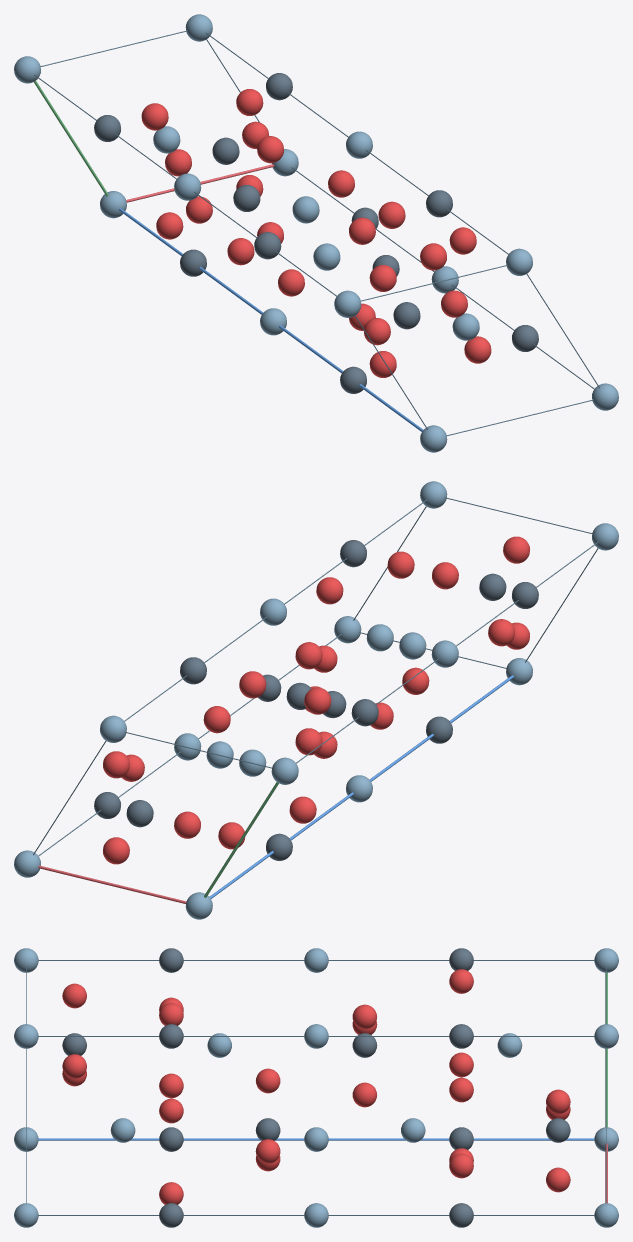
The model's file is chat-smithsonite.glb.
The picture shows the model from 3 angles, top to bottom: view 1: azimuth 30°, elevation 25°; view 2: azimuth 150°, elevation 25°; view 3: azimuth 270°, elevation 25°; orthographic projection. The views are drawn at different scales.
Visible parts, largest first — view 1: O · O · 1 (×15), Zn · Zn · 1 (×12), C · C · 1 (×8), Ô mạng và các trục a, b, c; view 2: O · O · 1 (×14), Zn · Zn · 1 (×12), Ô mạng và các trục a, b, c, C · C · 1 (×7); view 3: O · O · 1 (×16), Zn · Zn · 1 (×16), C · C · 1 (×12), Ô mạng và các trục a, b, c.
Part boxes in pixels (x1,y1,x2,y2): O · O · 1 (×15): (141, 89, 491, 363); Zn · Zn · 1 (×12): (14, 14, 618, 452); C · C · 1 (×8): (94, 73, 538, 351); Ô mạng và các trục a, b, c: (34, 30, 599, 435); O · O · 1 (×14): (103, 536, 529, 864); Zn · Zn · 1 (×12): (14, 481, 618, 919); Ô mạng và các trục a, b, c: (33, 497, 598, 903); C · C · 1 (×7): (94, 540, 538, 827); O · O · 1 (×16): (62, 969, 570, 1204); Zn · Zn · 1 (×16): (14, 948, 618, 1227); C · C · 1 (×12): (62, 948, 570, 1227); Ô mạng và các trục a, b, c: (26, 960, 607, 1215).
Size of the model in its own units: 7.62 by 4.67 by 15.66.
